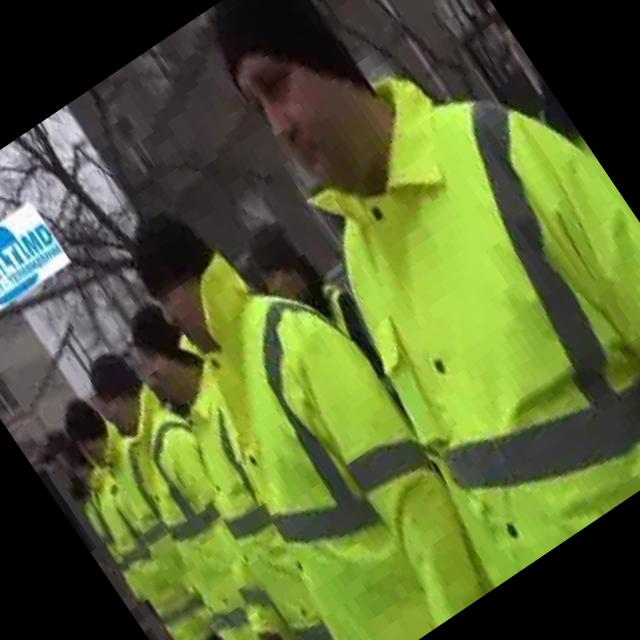safety_vest: (217, 0, 640, 588), (116, 211, 518, 640), (136, 354, 406, 640), (75, 374, 328, 640), (73, 416, 252, 640), (63, 461, 216, 640)
